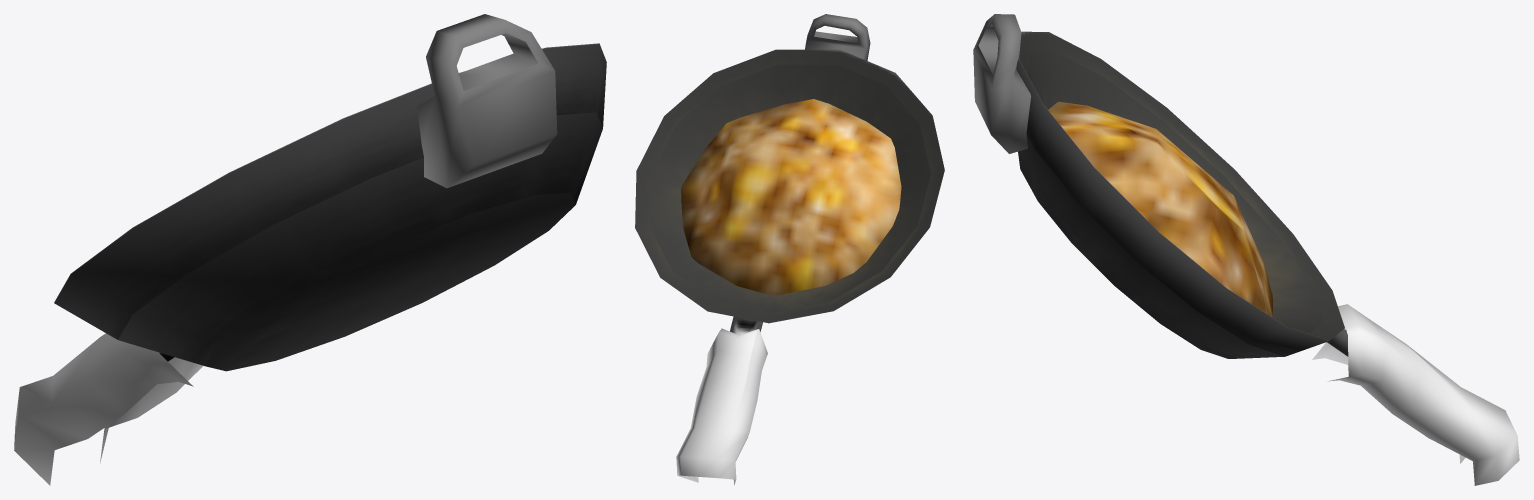
The model's file is C_WokFood.fbx.
3 views of the same model, side by side, from view 1: azimuth 30°, elevation 25°; view 2: azimuth 150°, elevation 25°; view 3: azimuth 270°, elevation 25° (orthographic). The views are drawn at different scales.
Visible parts, largest first — view 1: Wok_Food; view 2: Wok_Food; view 3: Wok_Food.
Part boxes in pixels (left/top/right/bottom): Wok_Food: left=14, top=14, right=606, bottom=485; Wok_Food: left=635, top=14, right=944, bottom=485; Wok_Food: left=973, top=14, right=1519, bottom=485.
Size of the model in its own units: 51.81 by 61.36 by 63.33.
